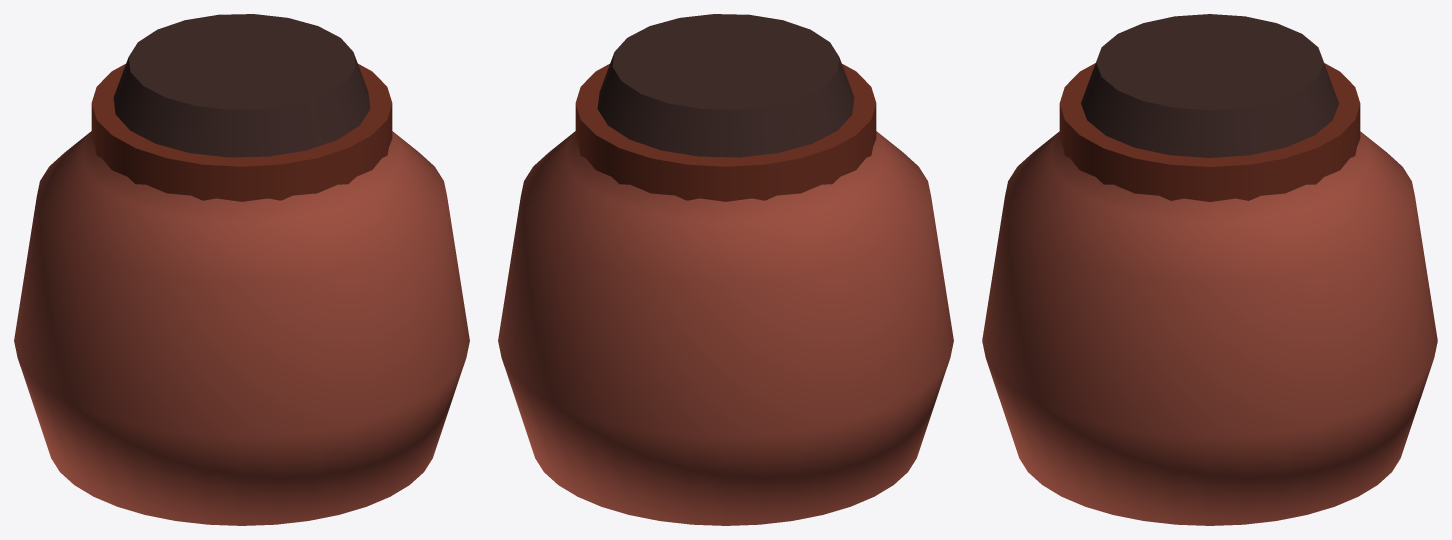
The model's file is wok_prop_douban_jar.glb.
3 renders of one model, left to right at view 1: azimuth 30°, elevation 25°; view 2: azimuth 150°, elevation 25°; view 3: azimuth 270°, elevation 25°, orthographic.
Bounding box in the file's own units: 0.2 × 0.185 × 0.2.
